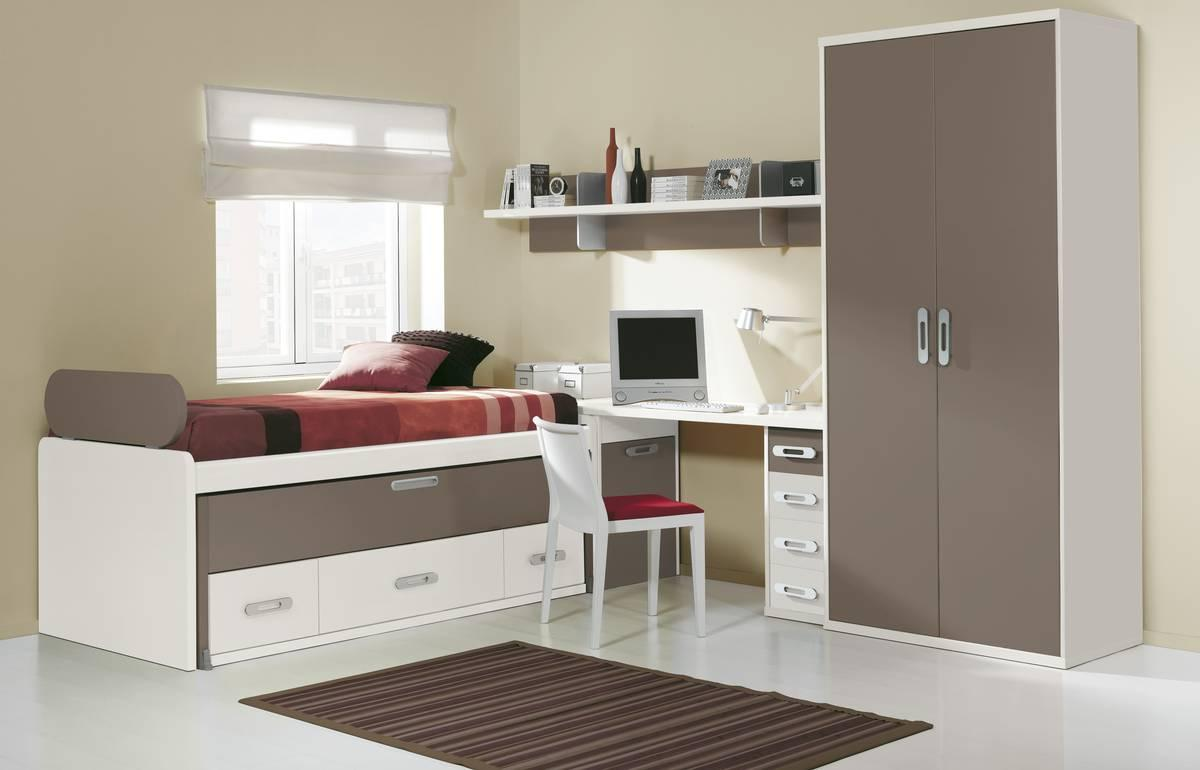bed: (83, 328, 567, 467)
